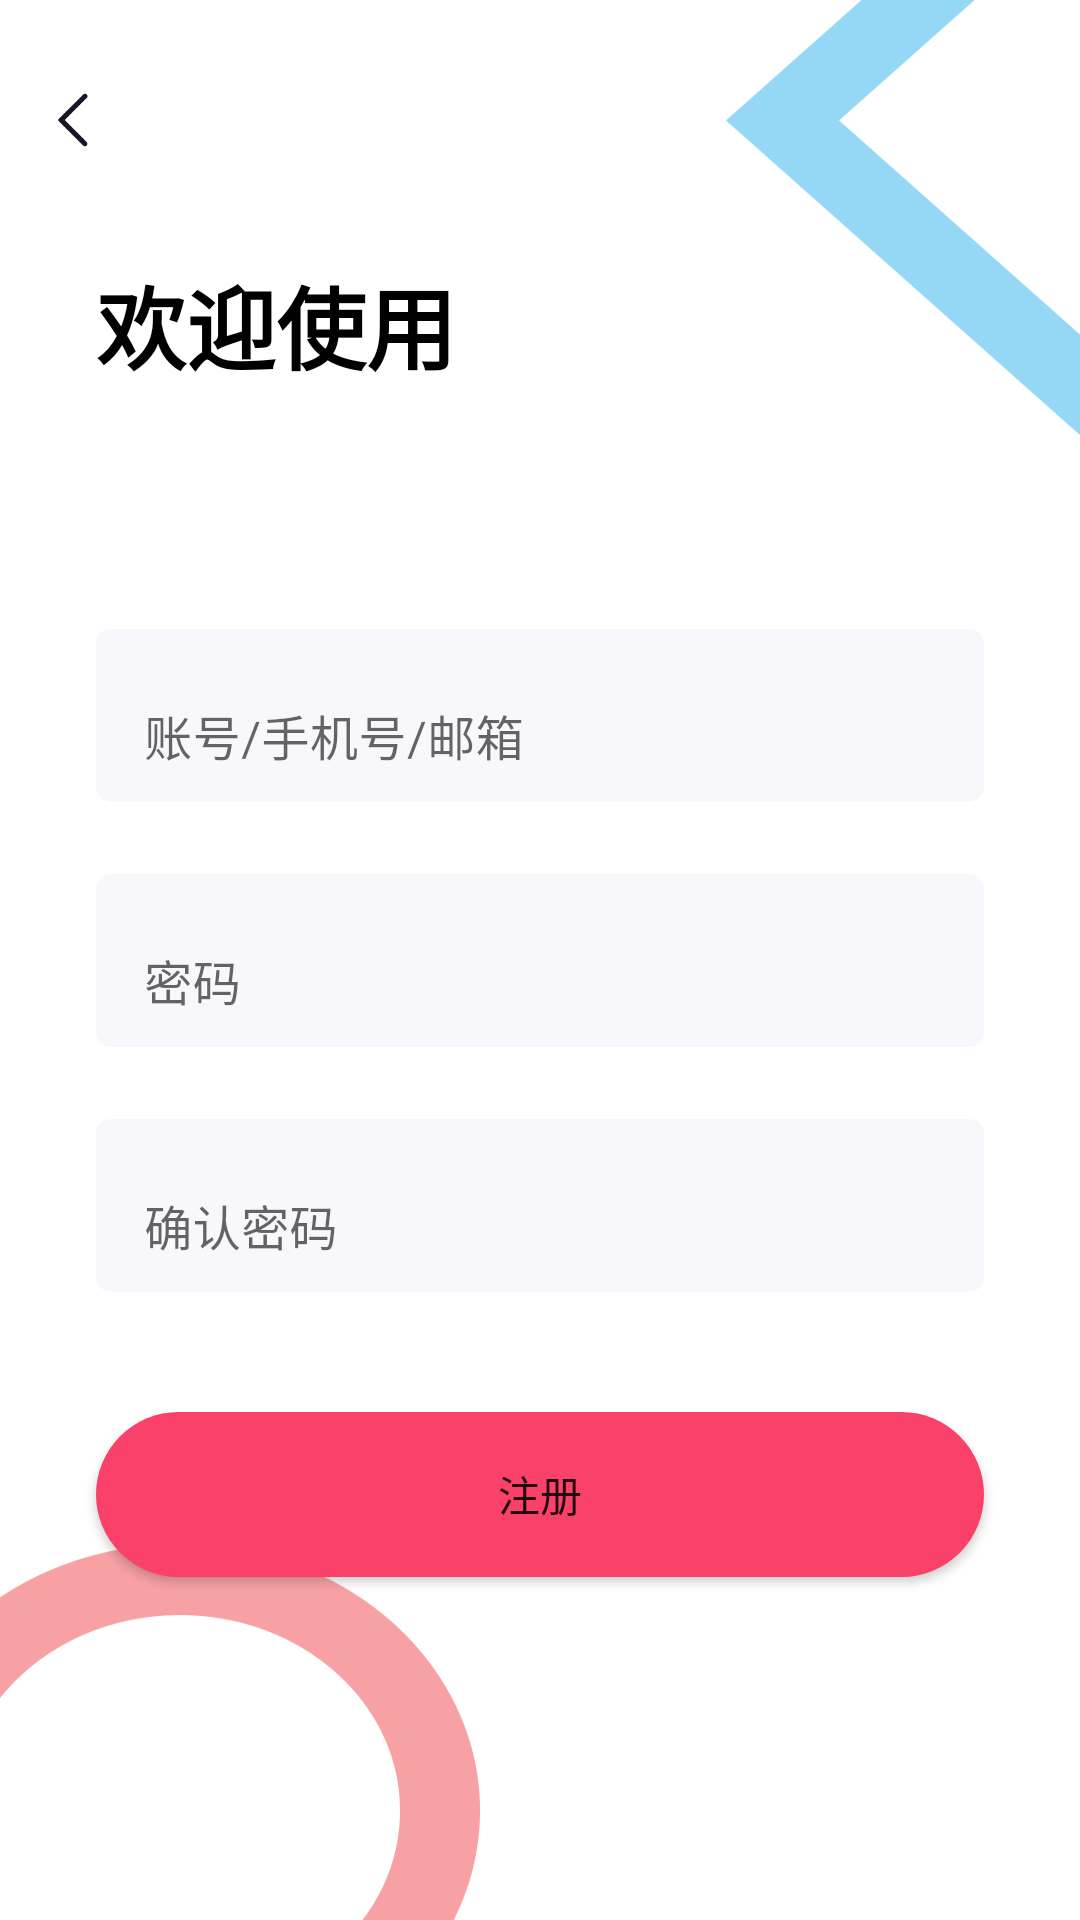

Screen size 1080 × 1920. Icon name, then its center in pixels as point (x, y):
back: point (73, 120)
